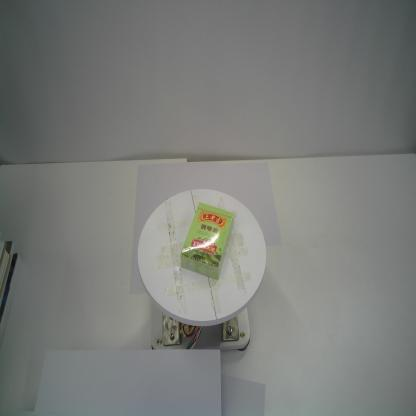Candy: (180, 202, 234, 280)
